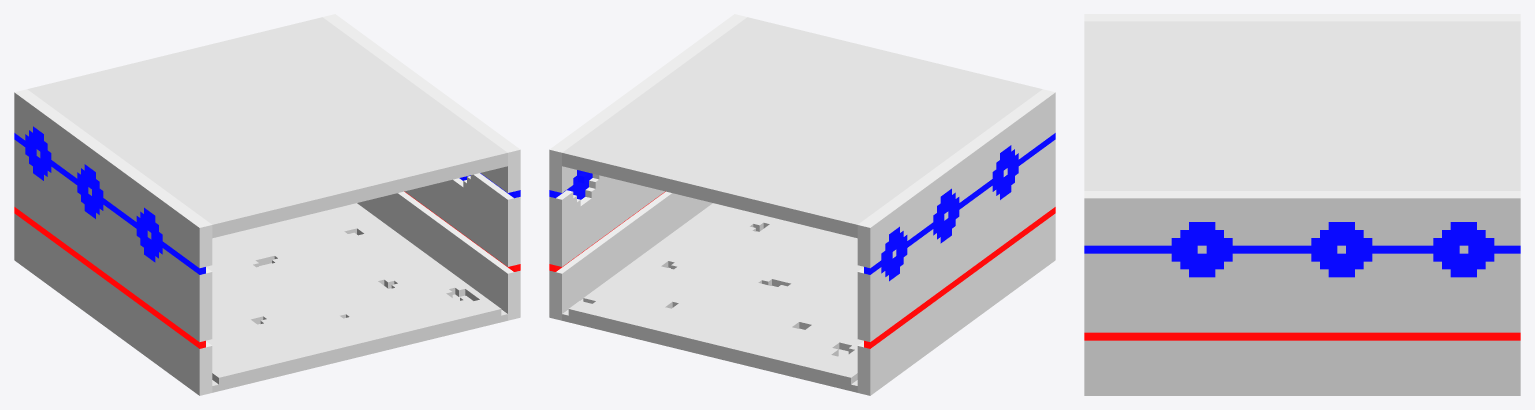
The model's file is corridorStraight02_Roof.fbx.
The picture shows the model from 3 angles, left to right: view 1: azimuth 30°, elevation 25°; view 2: azimuth 150°, elevation 25°; view 3: azimuth 270°, elevation 25°; orthographic projection. The views are drawn at different scales.
Visible parts, largest first — view 1: ceiling1.001, wall_left1.004, floor1.002, wall_left1.003; view 2: ceiling1.001, wall_left1.004, floor1.002, wall_left1.003; view 3: wall_left1.003, ceiling1.001, wall_left1.004.
Part boxes in pixels (x1,y1,x2,y2): ceiling1.001: [27, 17, 507, 238]; wall_left1.004: [14, 89, 212, 395]; floor1.002: [206, 203, 507, 392]; wall_left1.003: [323, 14, 520, 320]; ceiling1.001: [562, 17, 1042, 238]; wall_left1.004: [857, 89, 1055, 395]; floor1.002: [562, 203, 863, 392]; wall_left1.003: [549, 14, 746, 320]; wall_left1.003: [1084, 191, 1520, 395]; ceiling1.001: [1084, 21, 1520, 190]; wall_left1.004: [1084, 14, 1520, 21].
Size of the model in its own units: 4 by 2 by 4.
Materials: 4 (4 with a texture image).
